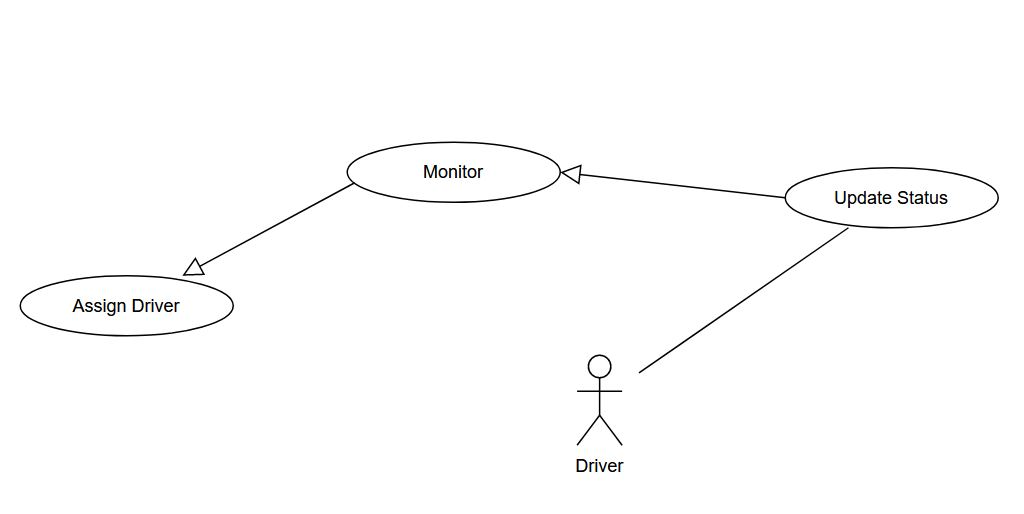actor: (572, 352, 628, 449)
association: (638, 227, 852, 375)
generalization: (182, 182, 352, 277), (561, 159, 786, 205)
text: (67, 292, 184, 321), (835, 187, 950, 210), (421, 159, 489, 183), (571, 456, 628, 475)
use_case: (20, 273, 235, 338), (346, 140, 560, 205), (785, 166, 1000, 230)
